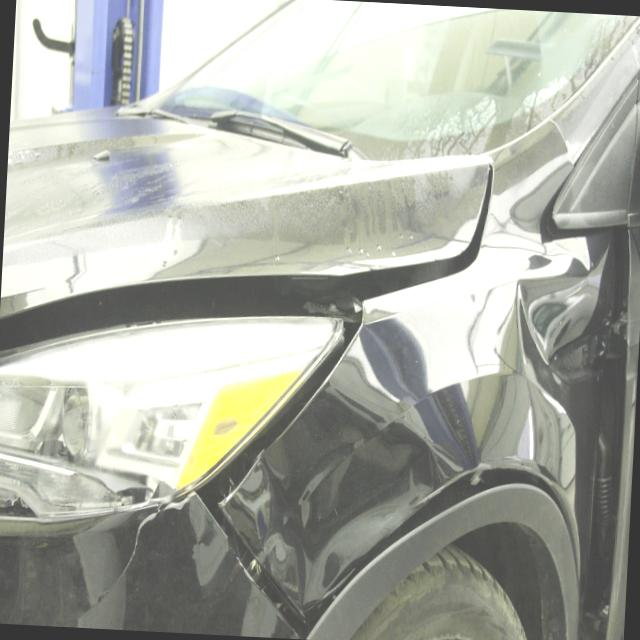Cabossage: (509, 223, 615, 446), (232, 439, 335, 615)
Dechirure: (174, 477, 315, 640), (76, 475, 206, 624)
